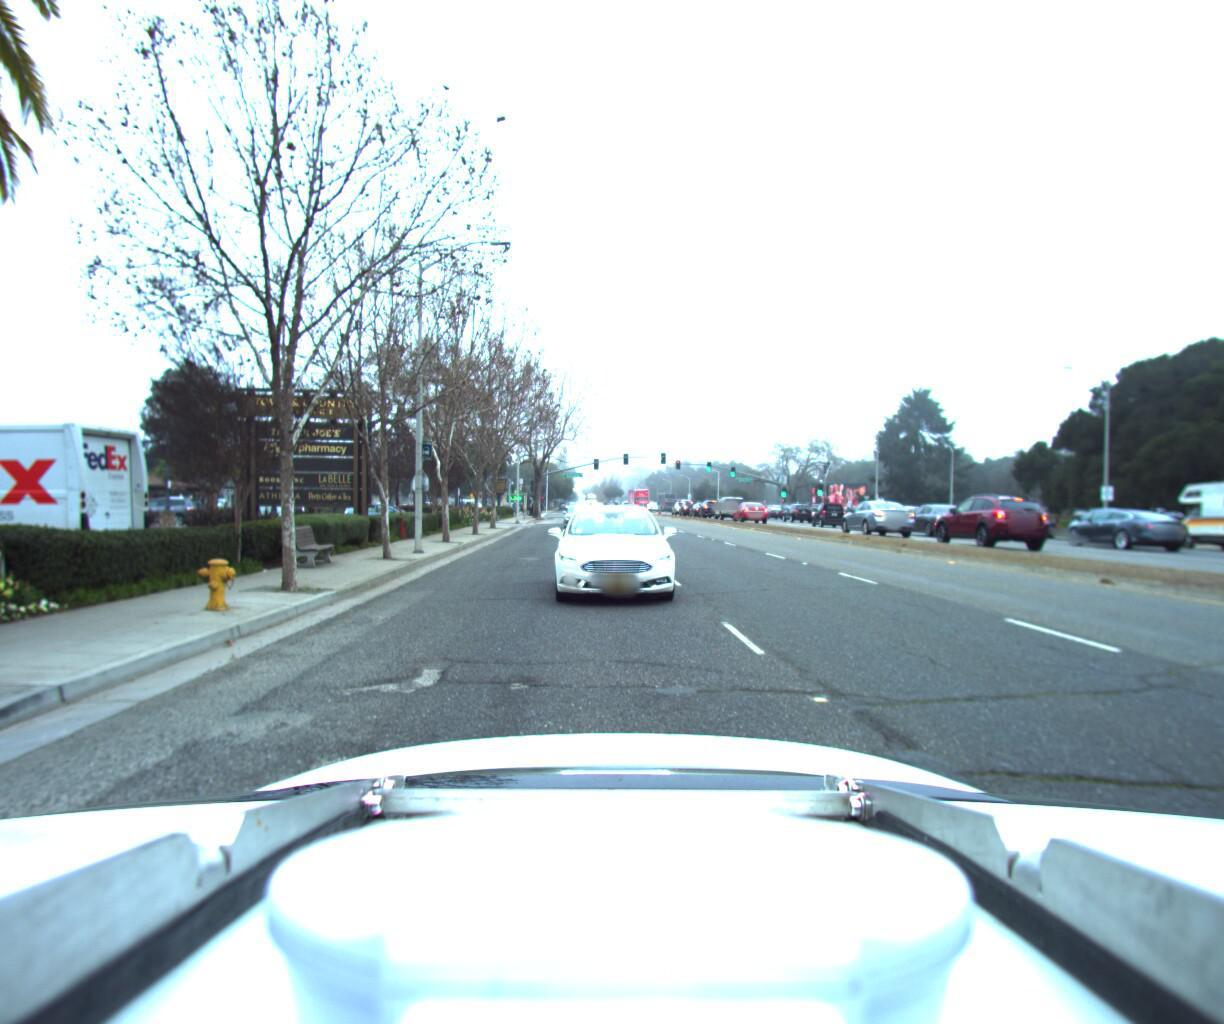car: (543, 497, 682, 610), (921, 489, 1044, 546), (1048, 499, 1185, 546), (873, 496, 963, 533), (832, 494, 914, 532), (339, 496, 420, 524), (991, 502, 1063, 532), (804, 494, 843, 520), (710, 487, 746, 513), (729, 493, 772, 515), (558, 498, 590, 523), (696, 490, 726, 513), (778, 496, 812, 515)
other_vehicle: (1165, 467, 1224, 560)
truck: (0, 409, 160, 588)
